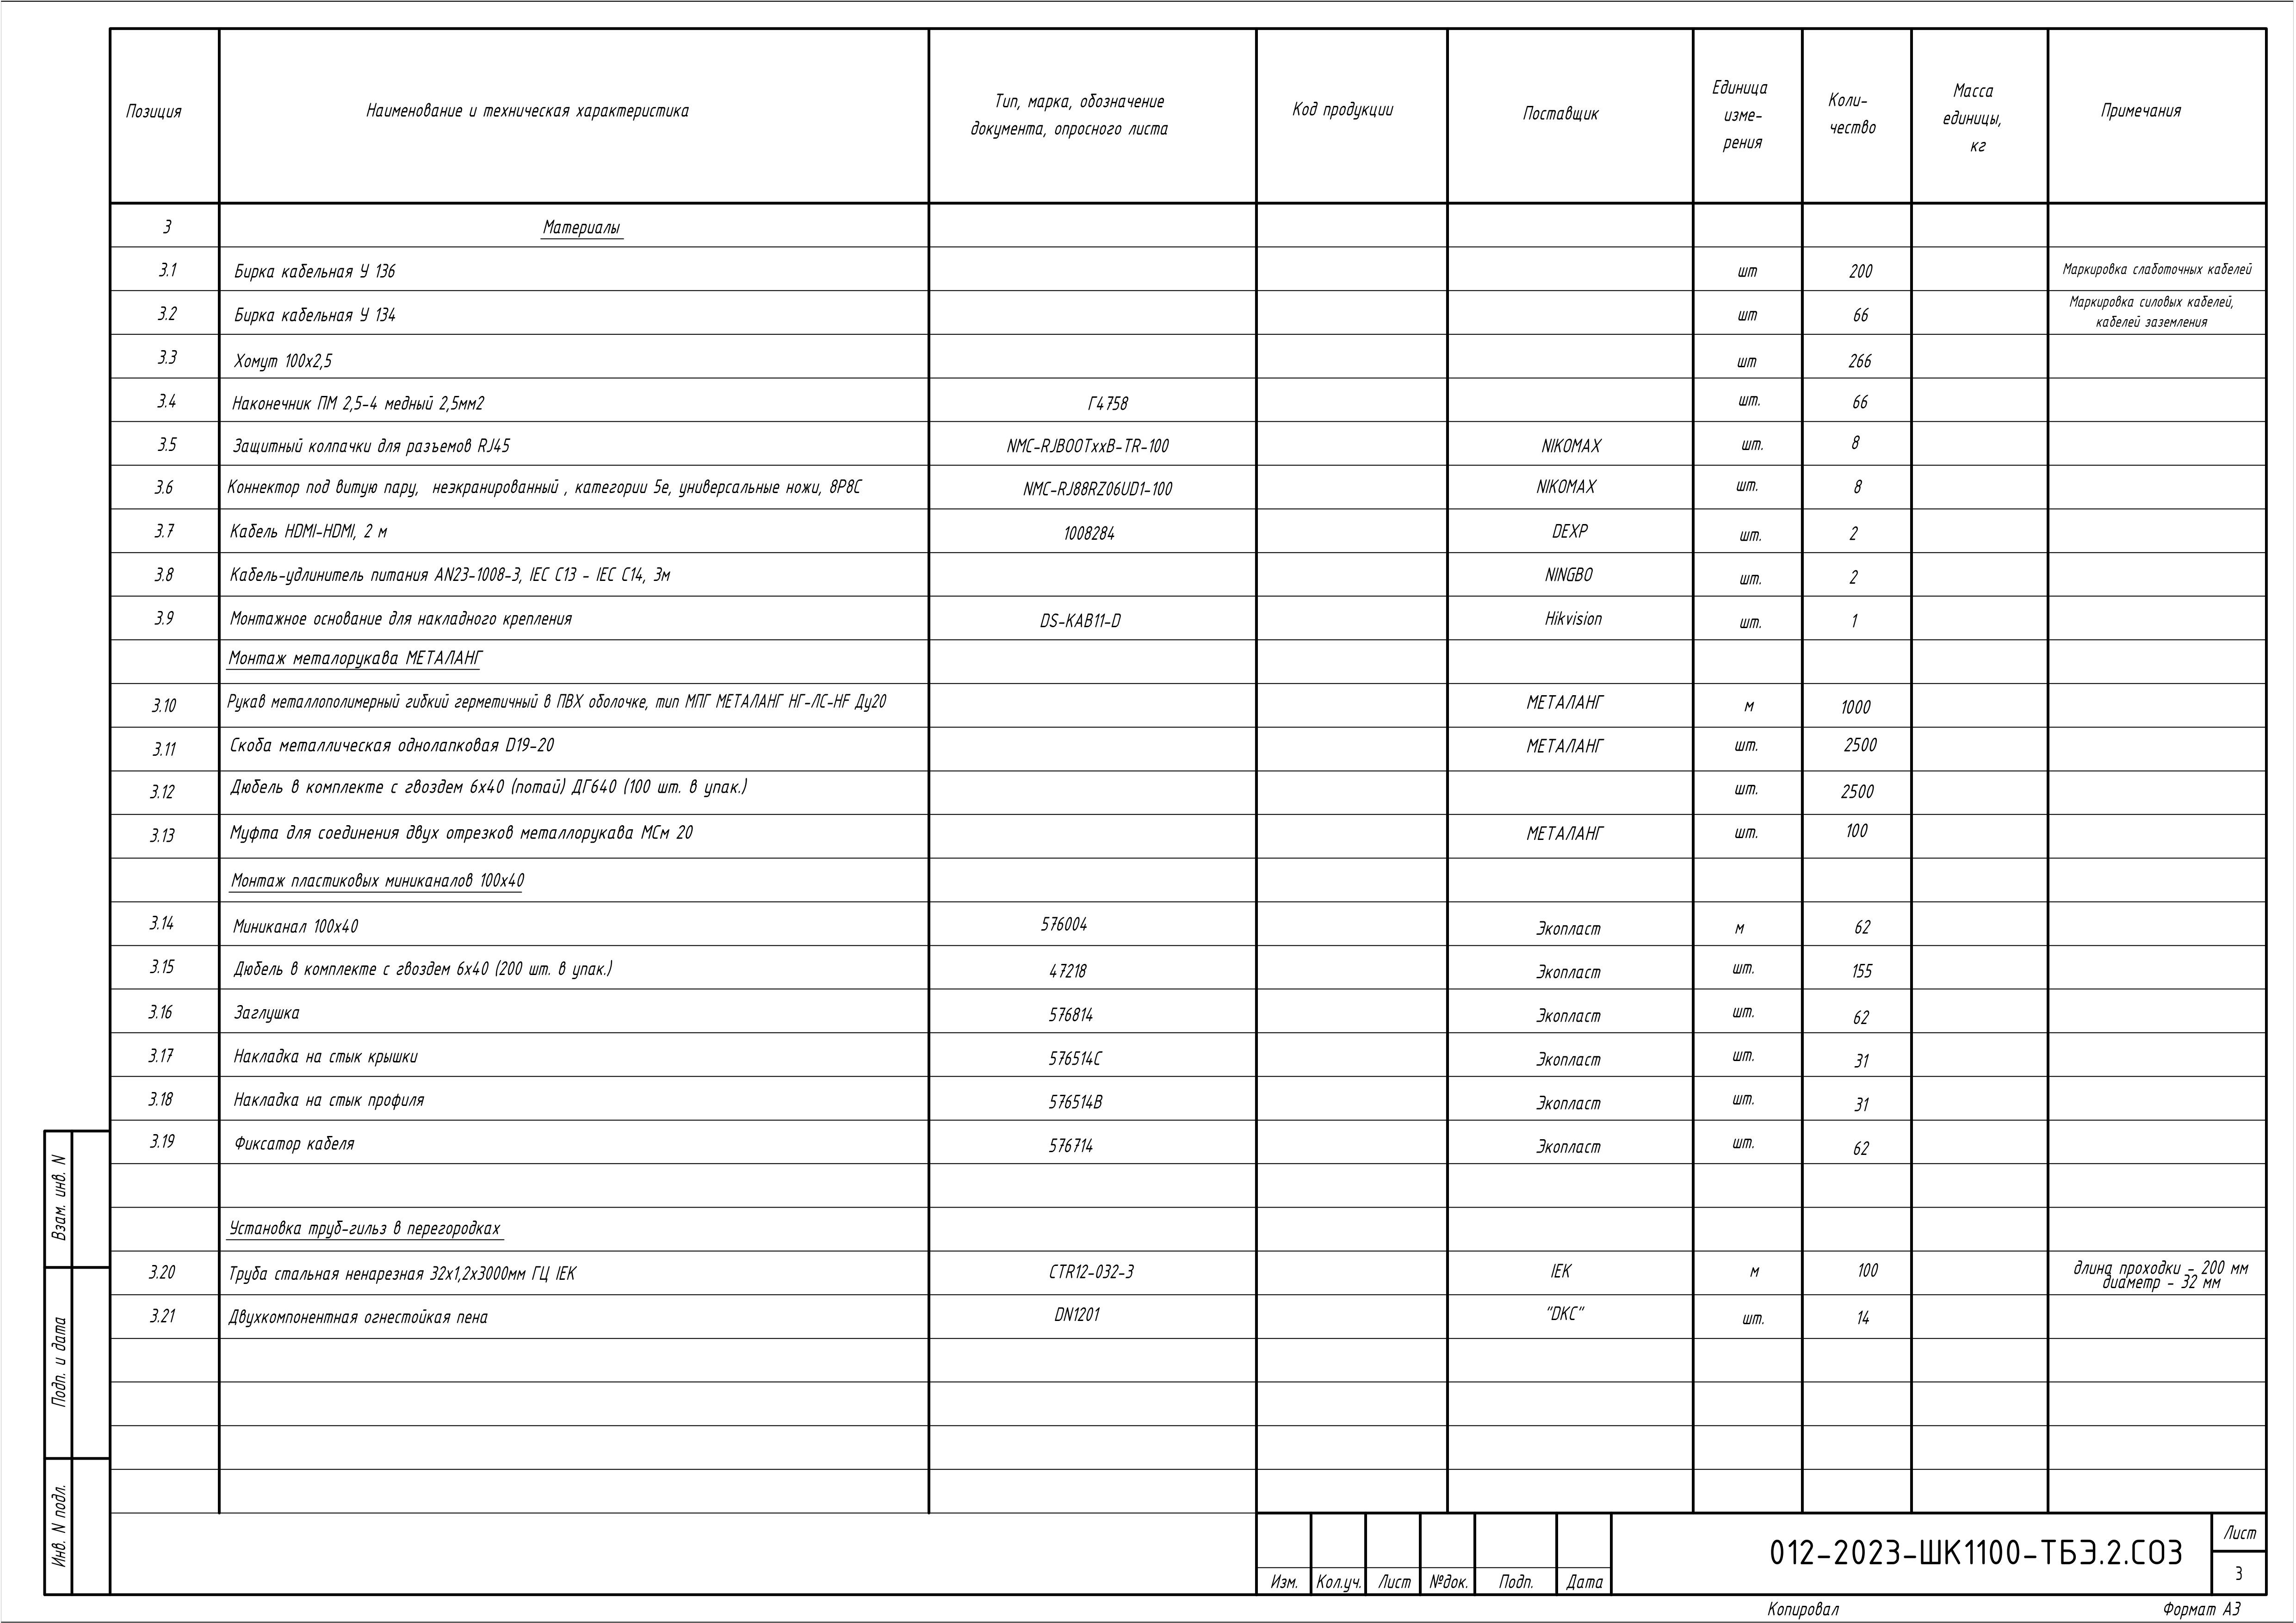Name of costs: (218, 204, 929, 1516)
Note: (929, 204, 1254, 1514)
Quantity: (1804, 204, 1911, 1512)
Unit of measurement: (1693, 204, 1802, 1514)
